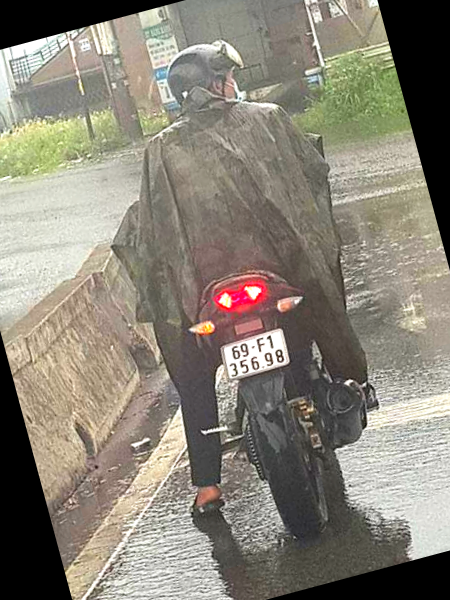number: (220, 331, 287, 382)
